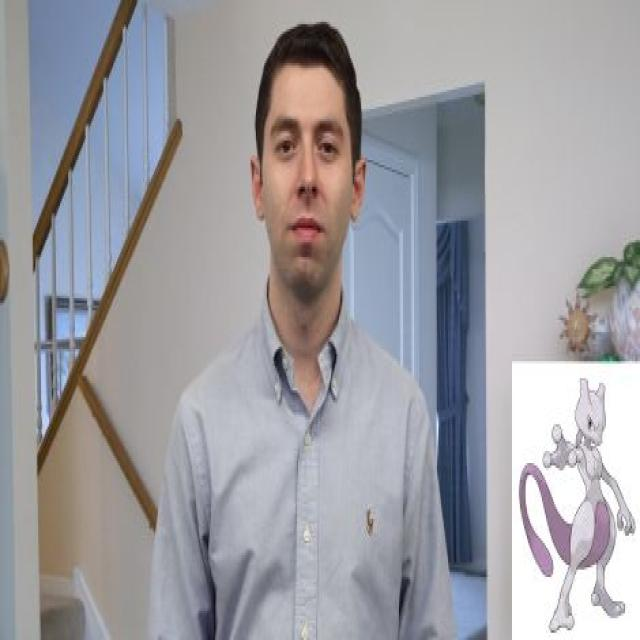human: (142, 9, 468, 640)
